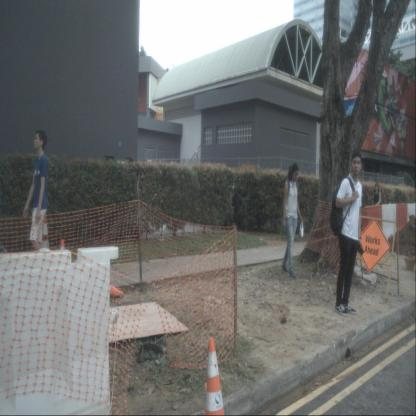barrier: (0, 244, 122, 416), (363, 203, 382, 250), (380, 202, 396, 249), (395, 204, 408, 241), (406, 202, 416, 238)
cone: (203, 336, 225, 416), (104, 284, 124, 298)
